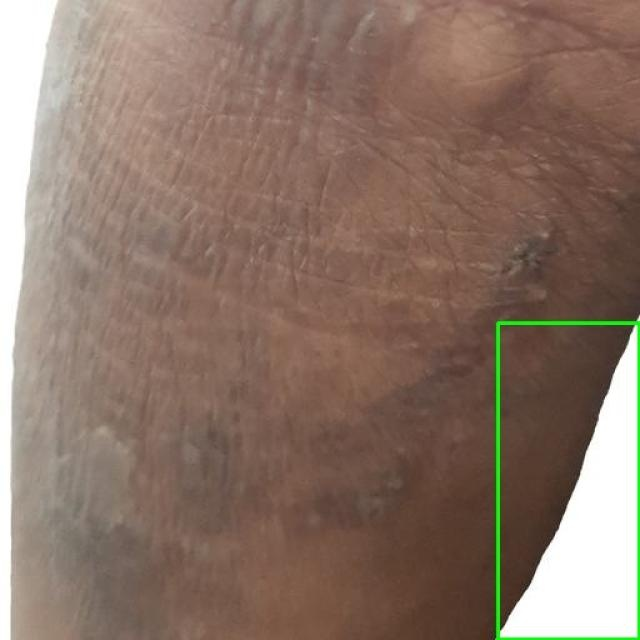Contact Dermatitis: (498, 322, 639, 639)
